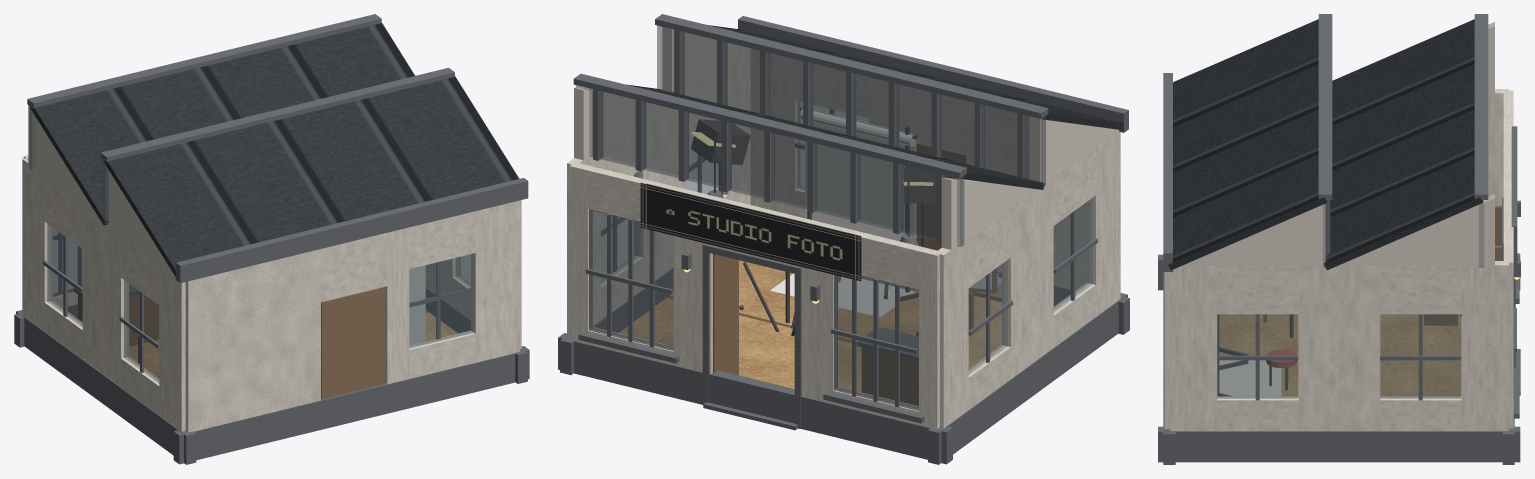
Rendered from studio-foto-toko-blender-v1.glb.
3 views of the same model, side by side, from view 1: azimuth 30°, elevation 25°; view 2: azimuth 150°, elevation 25°; view 3: azimuth 270°, elevation 25° (orthographic). The views are drawn at different scales.
Visible parts, largest first — view 1: studio_plaster, studio_roof, studio_char, studio_glass, studio_wood, studio_white, studio_floor; view 2: studio_plaster, studio_char, studio_glass, studio_floor, studio_sign, studio_white, studio_wood, studio_roof, studio_dark; view 3: studio_plaster, studio_roof, studio_char, studio_glass, studio_floor, studio_white, studio_wood, studio_dark.
Part boxes in pixels (x1,y1,x2,y2): studio_plaster: [22, 105, 521, 432]; studio_roof: [30, 22, 519, 276]; studio_char: [14, 14, 529, 464]; studio_glass: [29, 106, 473, 382]; studio_wood: [78, 287, 384, 399]; studio_white: [409, 265, 425, 344]; studio_floor: [129, 310, 457, 377]; studio_plaster: [567, 27, 1120, 429]; studio_char: [558, 14, 1129, 464]; studio_glass: [575, 25, 1092, 408]; studio_floor: [619, 260, 1001, 391]; studio_sign: [640, 183, 861, 281]; studio_white: [770, 108, 991, 317]; studio_wood: [713, 143, 1001, 406]; studio_roof: [627, 25, 1123, 189]; studio_dark: [691, 107, 935, 335]; studio_plaster: [1164, 22, 1513, 431]; studio_roof: [1168, 19, 1482, 270]; studio_char: [1158, 14, 1520, 464]; studio_glass: [1217, 200, 1484, 398]; studio_floor: [1219, 314, 1461, 396]; studio_white: [1219, 360, 1281, 396]; studio_wood: [1263, 205, 1501, 325]; studio_dark: [1217, 314, 1461, 396].
Bounding box in the file's own units: 6.34 × 4.39 × 5.35.
Materials: 11 (4 with a texture image).
